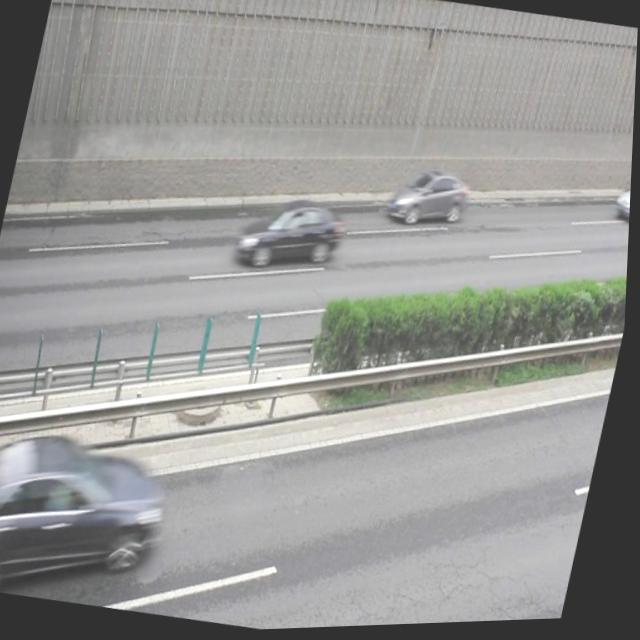car: (0, 413, 178, 618), (233, 191, 348, 282), (385, 163, 473, 235), (610, 173, 633, 227)
